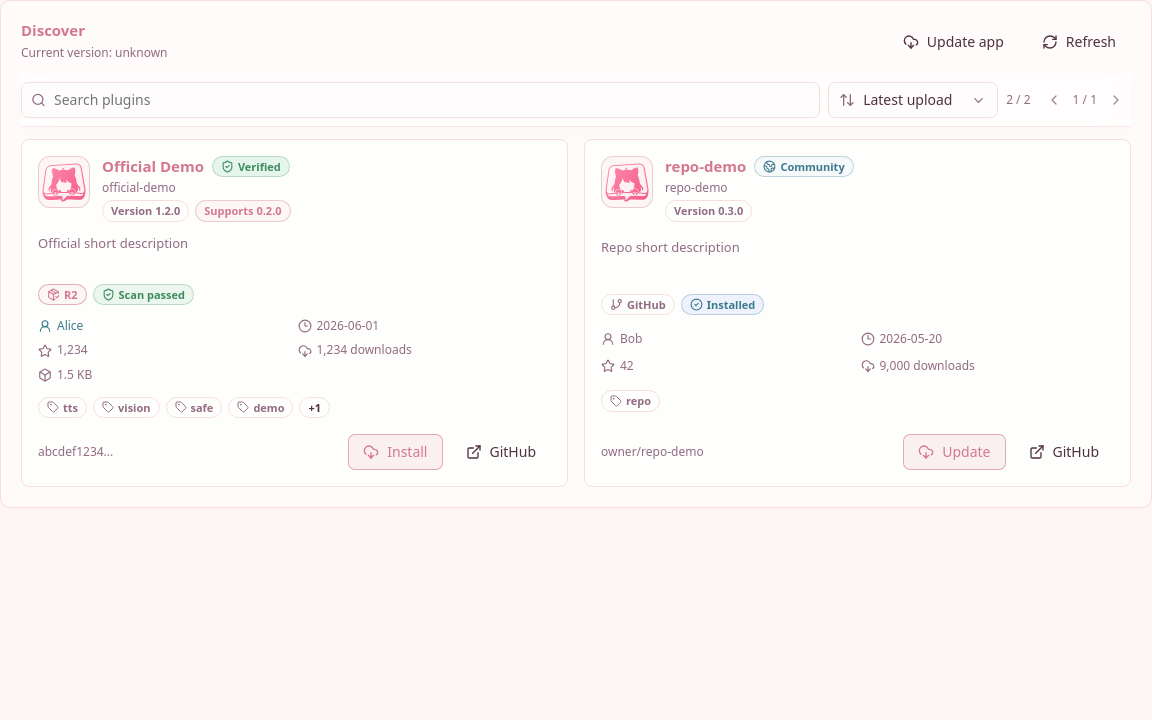
Test case: PluginCatalogPanel › checks and installs desktop updates through the desktop updater path
Expected: the heading "Official Demo" is shown, [102,157,204,176]
Click the button "Update app". click: (953, 42)
box: [888,24,1019,60]
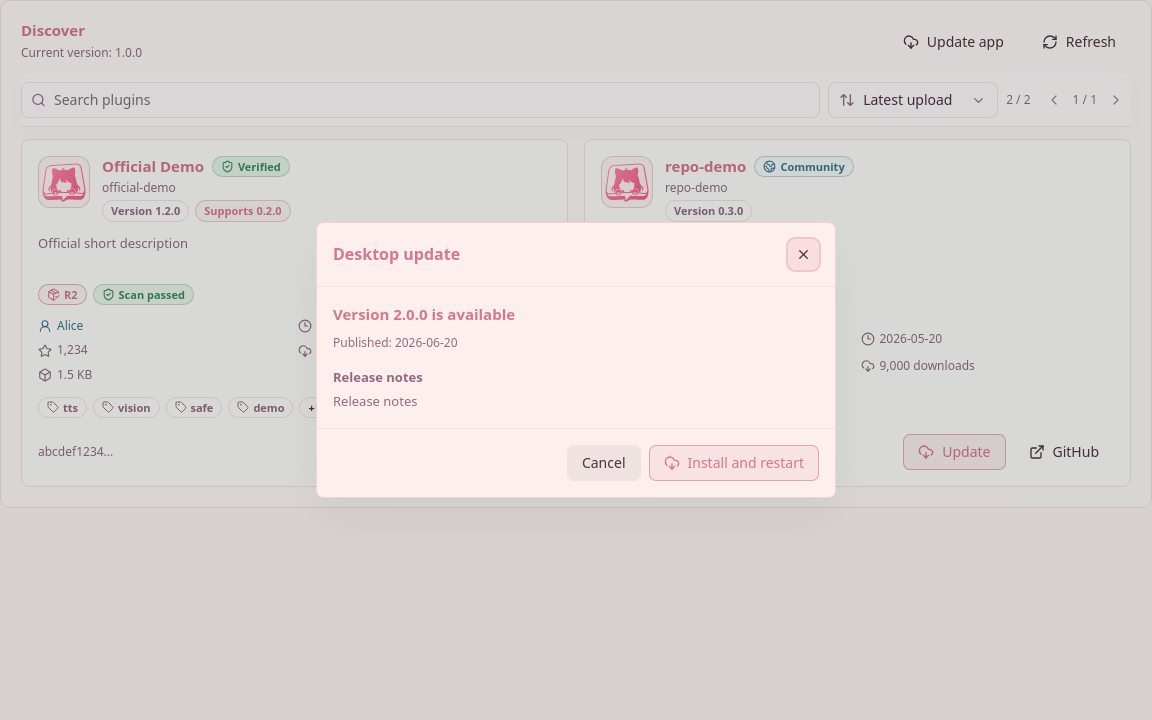
Expected: the text "Version 2.0.0 is available" is shown, [333,304,515,324]
Expected: the text "Published: 2026-06-20" is shown, [333,334,458,351]
Expected: the text "Release notes" is shown 2 times, [333,368,423,386]; [333,392,418,410]
Click the button "Install and restart". click: (734, 463)
box: [648,445,819,481]
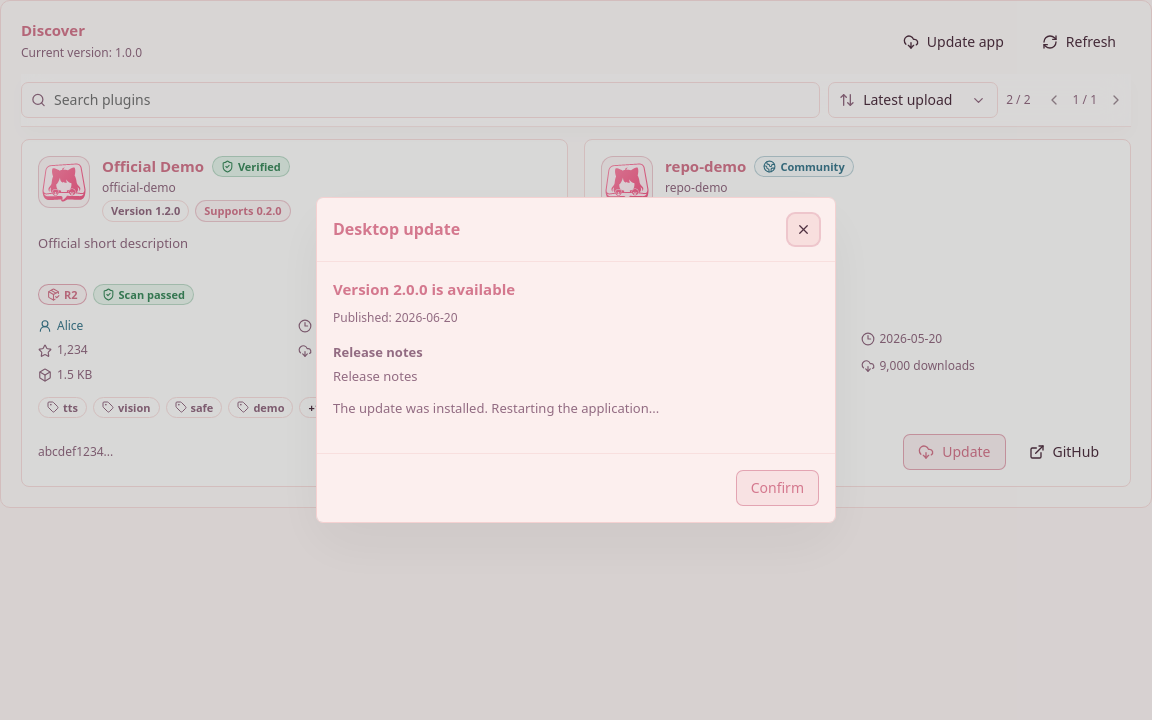
Expected: the text "The update was installed. Restarting the application..." is shown, [333,399,659,417]
